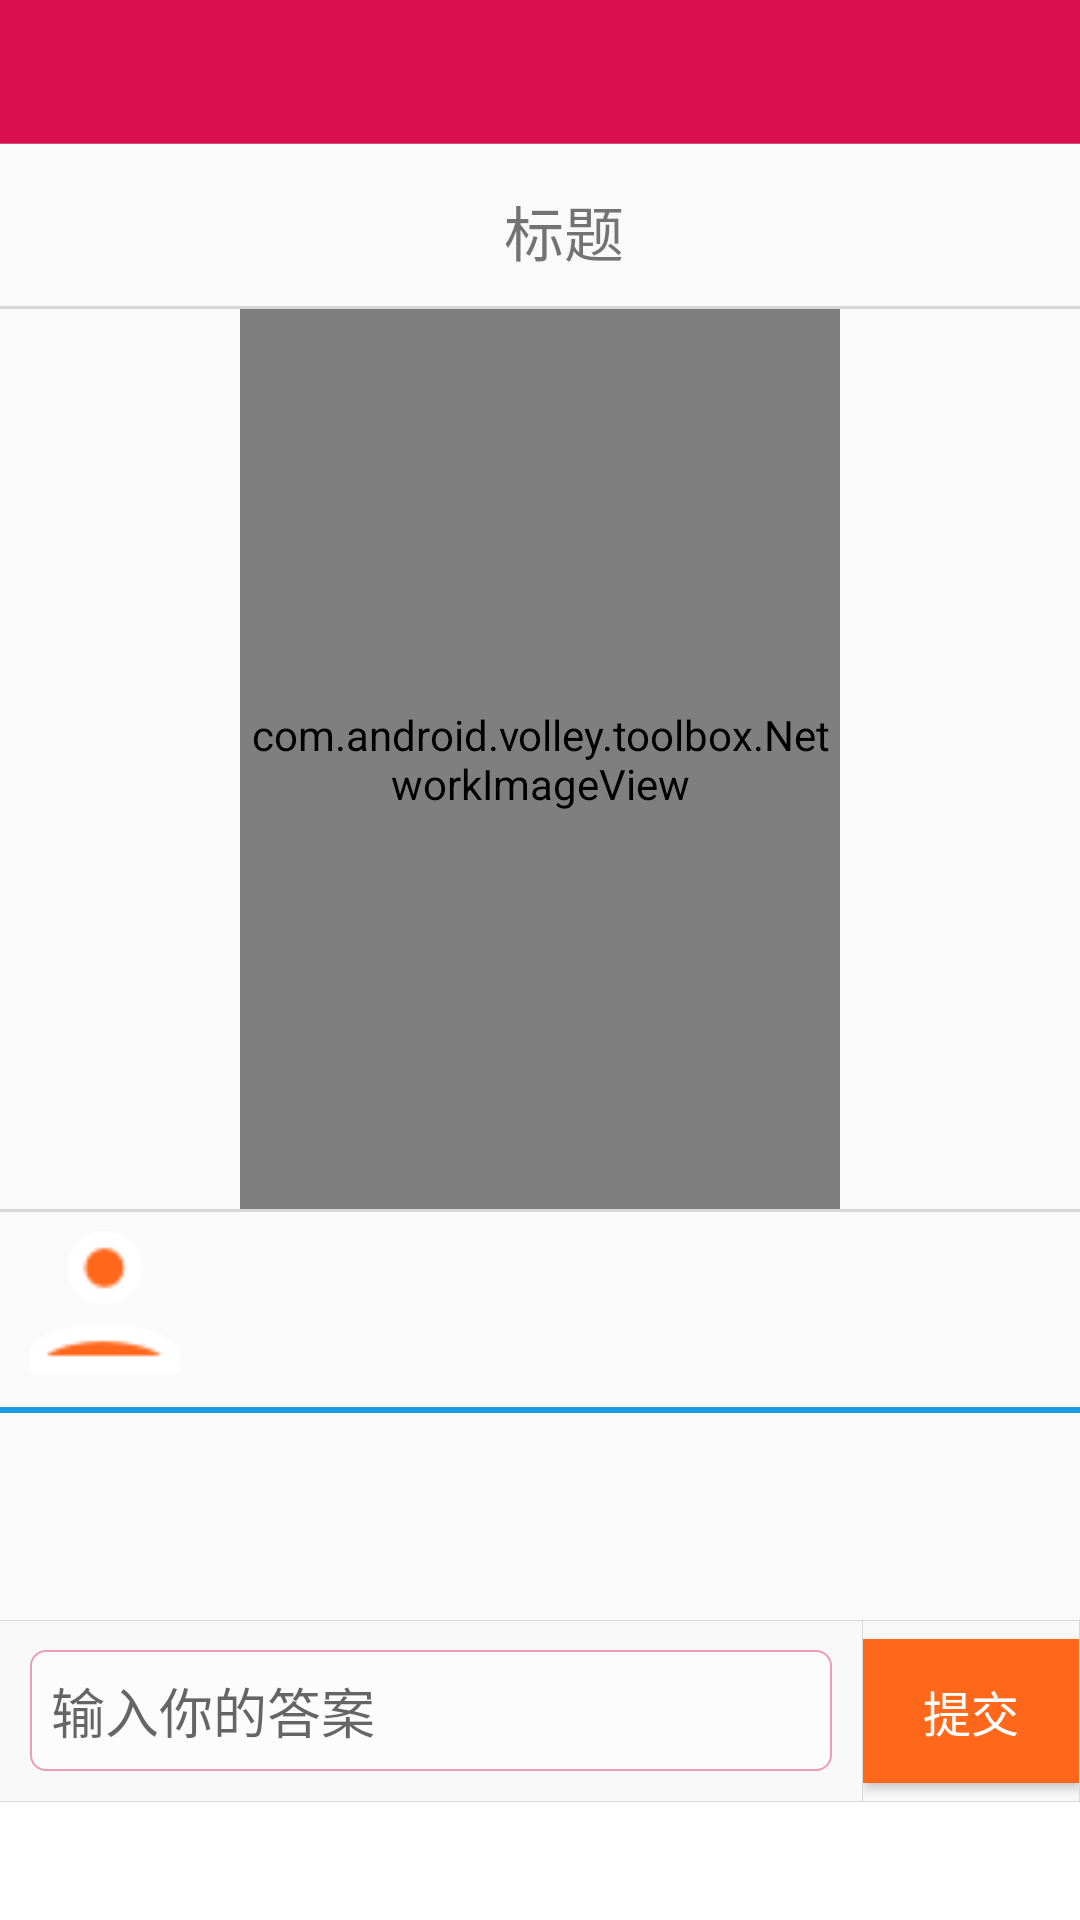

Icon bounding boxes for this 1080 x 1920 phone screenshot, format (x1, y1, x2, y2):
me now: (47, 1247, 161, 1357)
